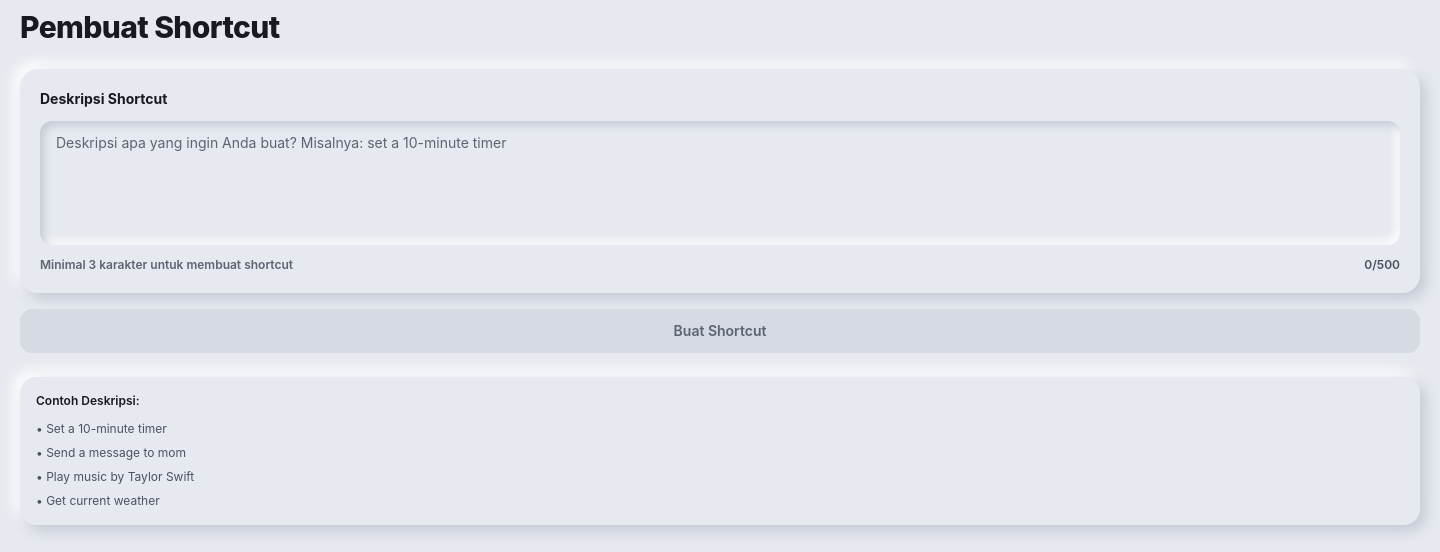
Test: ShortcutsScreen - E2E Frontend Tests › 1. Happy Path: Valid Shortcut Generation › enables generate button when input is valid
Check: the button "Buat Shortcut" is disabled, box [20,309,1420,353]
Type valid description
In the text box with placeholder "Deskripsi apa": (720, 183) [40,121,1400,245], type "set a timer"
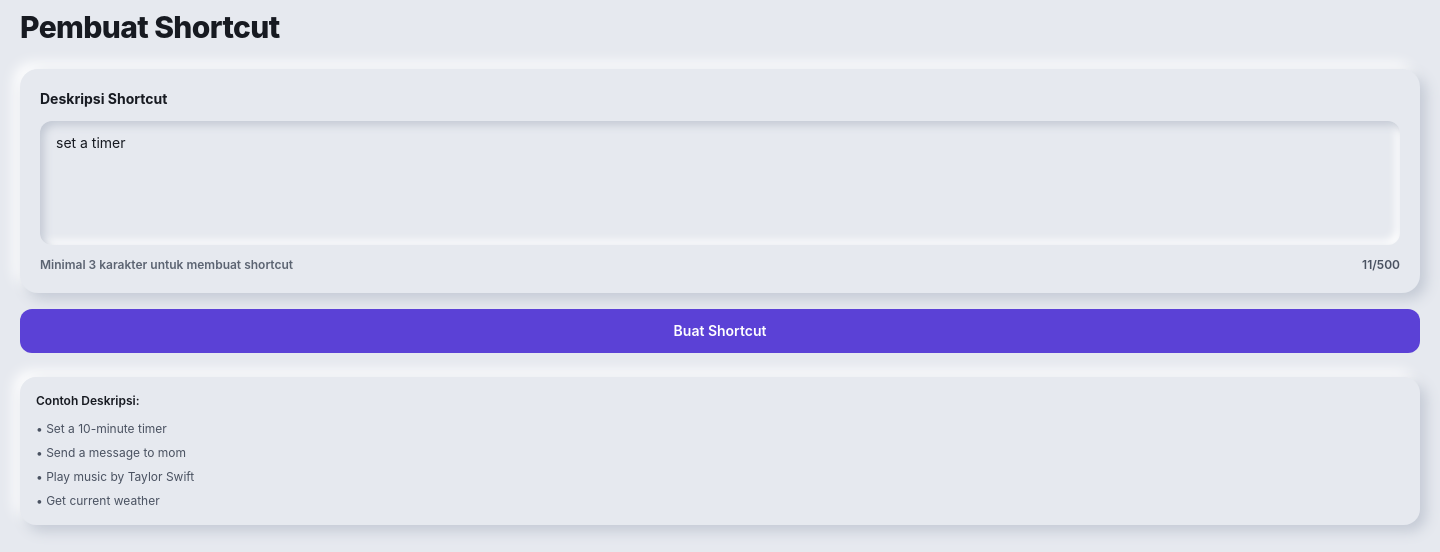
Check: the button "Buat Shortcut" is enabled, box [20,309,1420,353]
